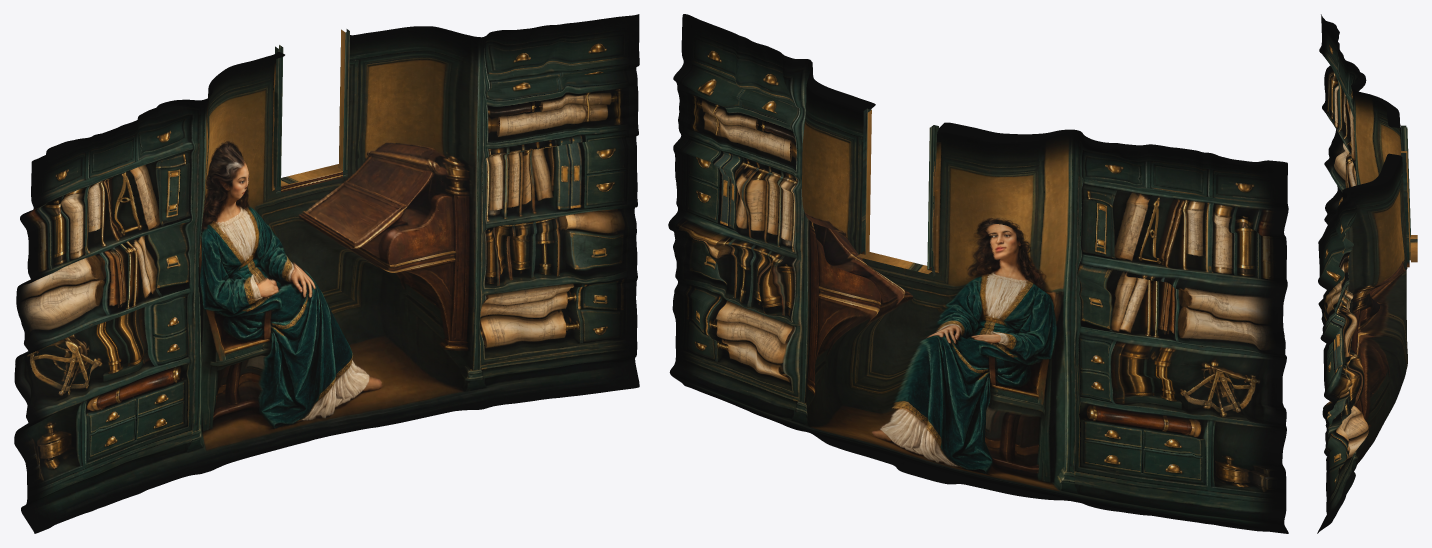
Rendered from software-library-v17.glb.
3 views of the same model, side by side, from view 1: azimuth 30°, elevation 25°; view 2: azimuth 150°, elevation 25°; view 3: azimuth 270°, elevation 25° (orthographic). The views are drawn at different scales.
Parts seen in each view (by area): view 1: Agentic; view 2: Agentic; view 3: Agentic.
Boxes of the visible parts, x1=… form: Agentic: x1=14, y1=14, x2=639, y2=533; Agentic: x1=668, y1=14, x2=1288, y2=533; Agentic: x1=1317, y1=14, x2=1417, y2=533.
Bounding box in the file's own units: 3.45 × 2 × 0.6222.
1 material, 1 textured.
